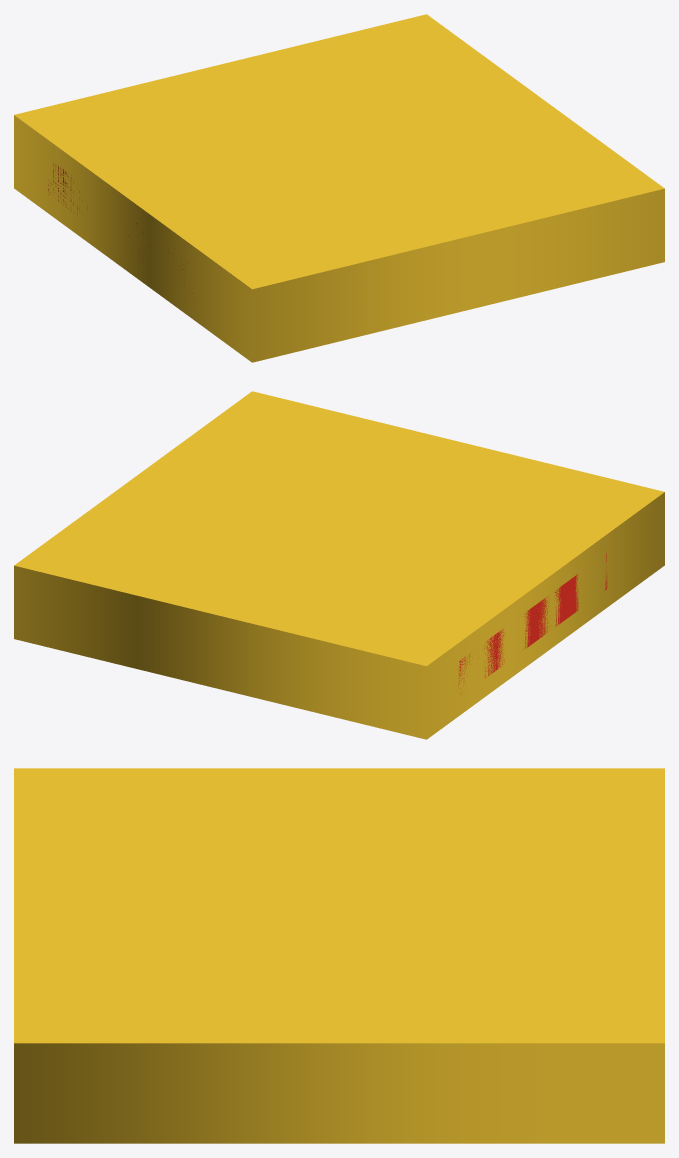
The model's file is laravel.gltf.
3 renders of one model, top to bottom at view 1: azimuth 30°, elevation 25°; view 2: azimuth 150°, elevation 25°; view 3: azimuth 270°, elevation 25°, orthographic. The views are drawn at different scales.
Visible parts, largest first — view 1: Cannon.006, Curve.019; view 2: Cannon.006, Curve.019, Curve.020; view 3: Cannon.006, Curve.019.
Part boxes in pixels (left/top/right/bottom): Cannon.006: left=14, top=14, right=664, bottom=362; Curve.019: left=14, top=133, right=664, bottom=344; Cannon.006: left=14, top=391, right=664, bottom=739; Curve.019: left=14, top=510, right=664, bottom=721; Curve.020: left=458, top=553, right=607, bottom=694; Cannon.006: left=14, top=768, right=664, bottom=1143; Curve.019: left=14, top=1068, right=664, bottom=1118.
Bounding box in the file's own units: 0.7056 × 0.12 × 0.7054.
